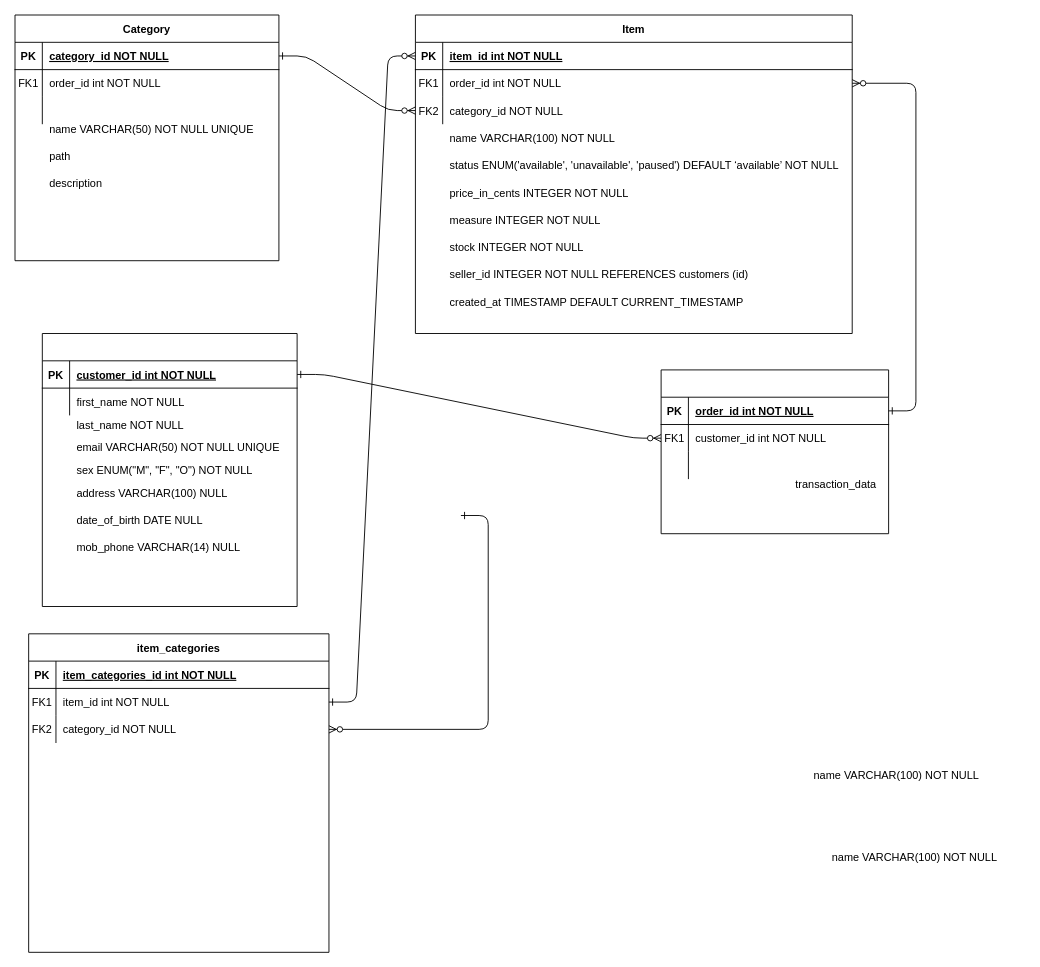
The diagram is 1040 pixels wide and 967 high, and some of its shapes have lost their labels. Each missing label, with the box of its shape:
Customers: (41, 333, 297, 607)
Orders: (660, 369, 889, 534)
